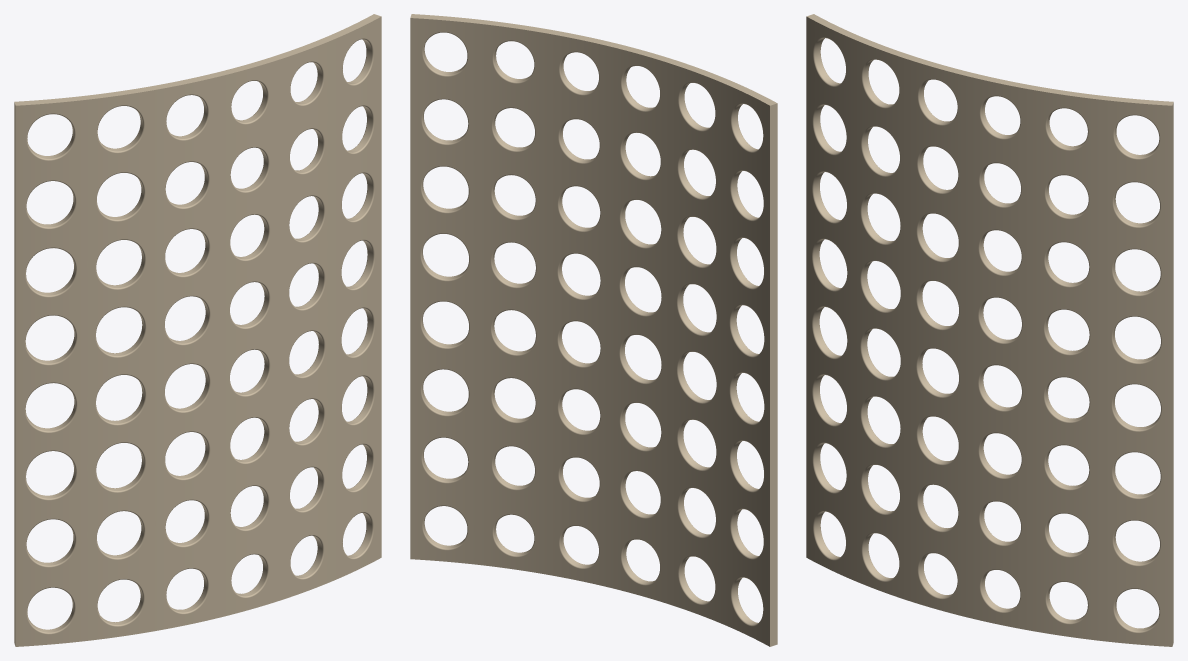
3 views of the same model, side by side, from view 1: azimuth 30°, elevation 25°; view 2: azimuth 150°, elevation 25°; view 3: azimuth 330°, elevation 25° (orthographic).
Visible parts, largest first — view 1: VEIL | continuous perforated shell; view 2: VEIL | continuous perforated shell; view 3: VEIL | continuous perforated shell.
Part boxes in pixels (<box>): VEIL | continuous perforated shell: <box>14,14,381,646</box>; VEIL | continuous perforated shell: <box>410,14,777,646</box>; VEIL | continuous perforated shell: <box>806,14,1173,646</box>.
Bounding box in the file's own units: 0.3539 × 0.5 × 0.0426.
